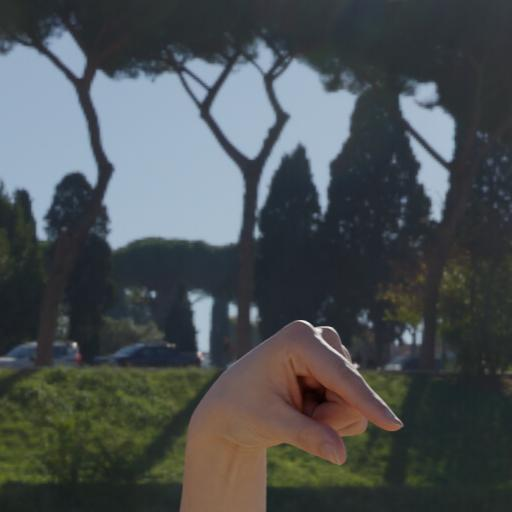Q: (154, 301, 411, 495)
